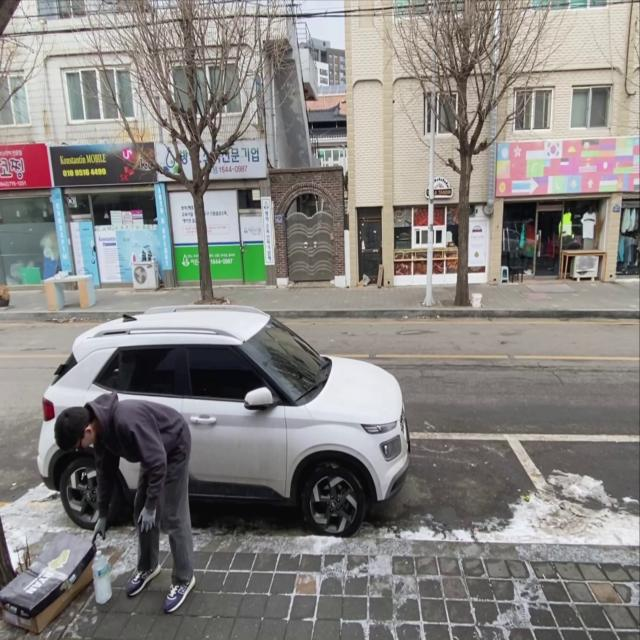gloved_hand: (136, 503, 157, 537), (89, 517, 108, 547)
